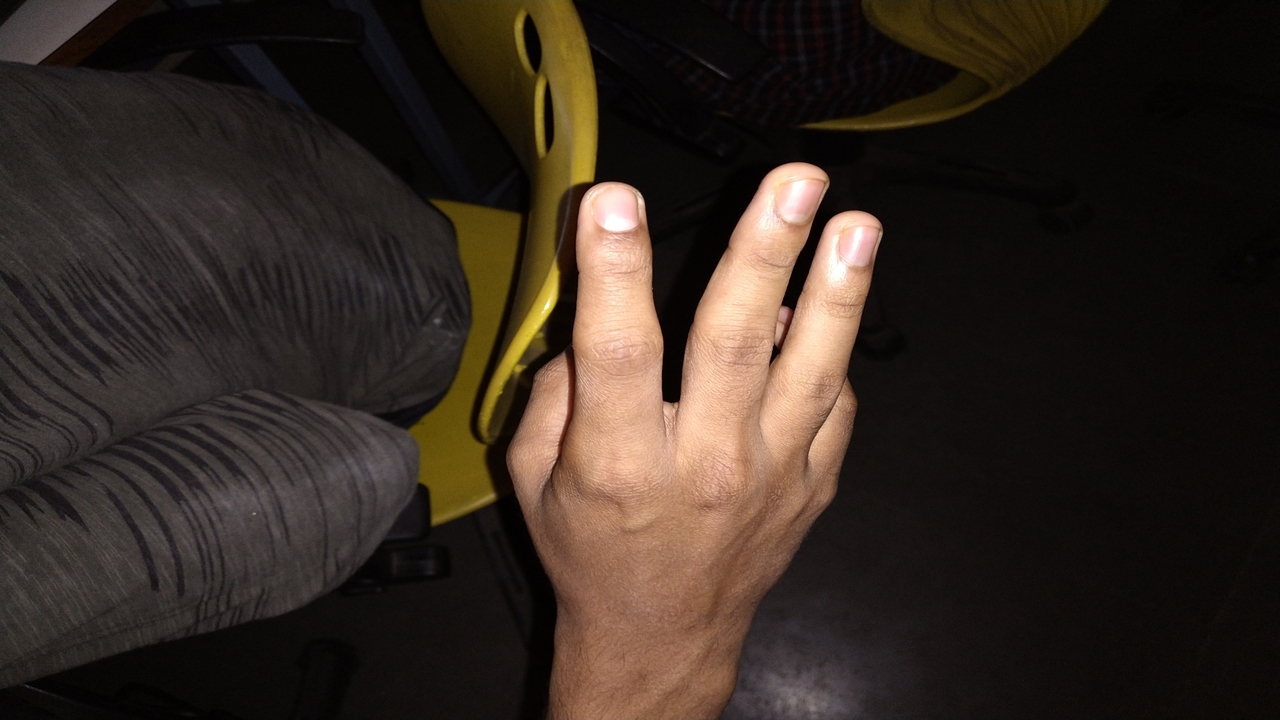fingertip: (568, 174, 654, 262), (758, 148, 840, 224), (818, 200, 890, 274)
